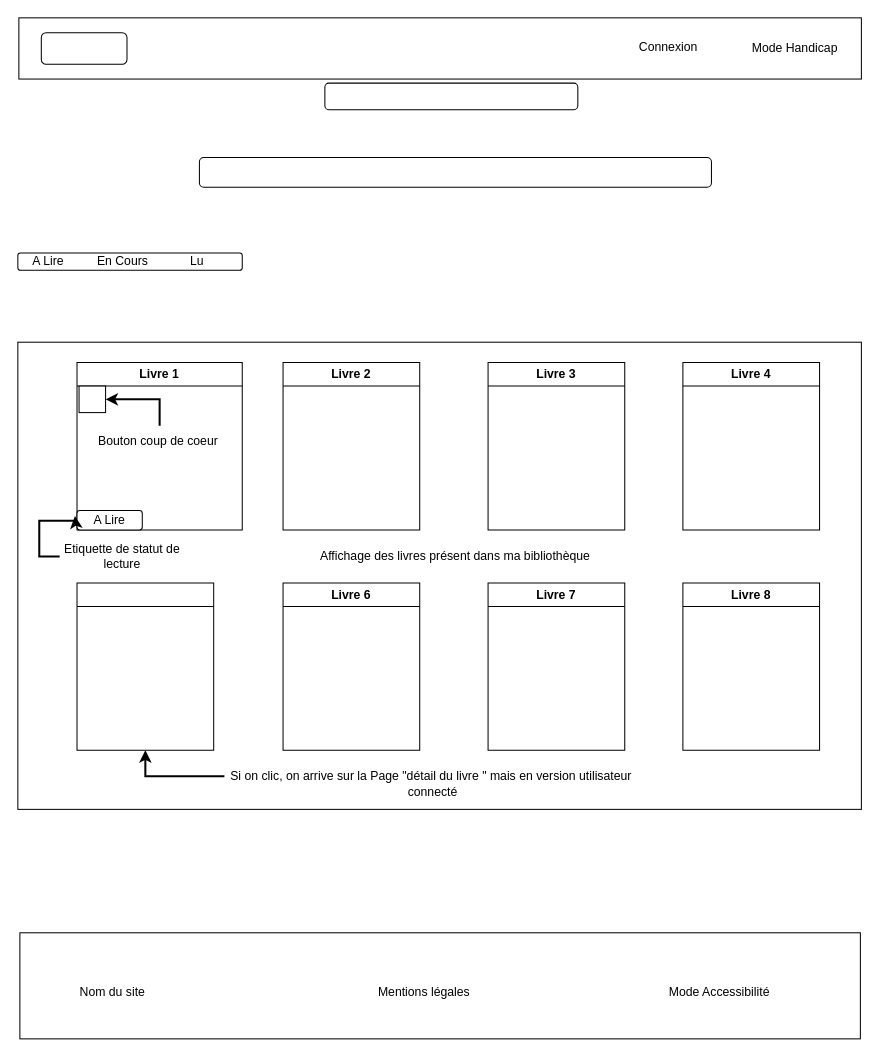
Some shapes in this 879 by 1057 pixel diagram are drawn without their labels. The shapes that lost their labels are listed below. From the top down, each one's centre as x and y in pixels, then its label:
At pixel 83 48: "Logo".
At pixel 451 96: "Moteur de recherche".
At pixel 454 172: "Titre de Ma bibliothèque".
At pixel 145 666: "Livre 5".
